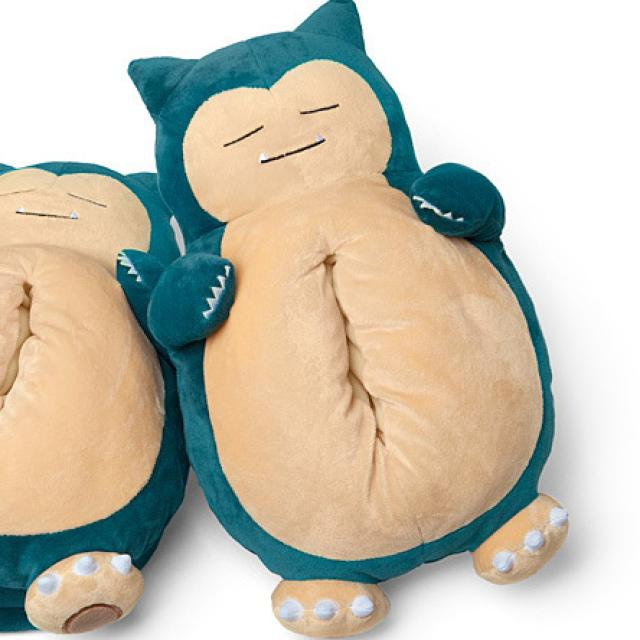Snorlax: (174, 0, 563, 616), (0, 163, 163, 628)
